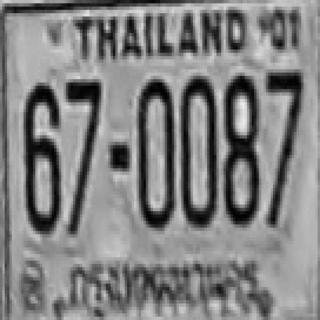N00: (179, 74, 217, 226), (136, 78, 174, 226)
N06: (21, 79, 59, 231)
N07: (263, 68, 301, 223), (64, 78, 99, 226), (263, 68, 301, 180), (64, 76, 99, 188), (263, 67, 301, 166), (64, 76, 99, 178)
N08: (221, 73, 256, 221)
P04: (64, 254, 266, 314)
